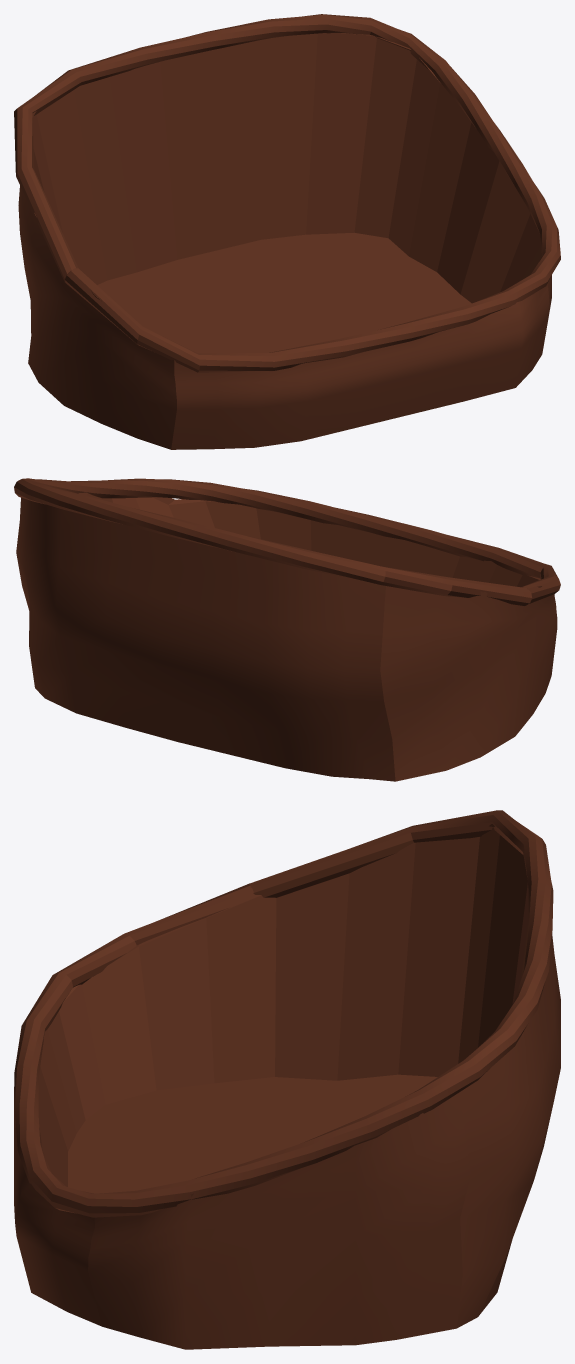
File: Basket_test.fbx
3 views of the same model, one above another, from view 1: azimuth 30°, elevation 25°; view 2: azimuth 150°, elevation 25°; view 3: azimuth 270°, elevation 25° (orthographic). The views are drawn at different scales.
Visible parts, largest first — view 1: pCube1, pCylinder1; view 2: pCube1, pCylinder1; view 3: pCube1, pCylinder1.
Part boxes in pixels (bbox=[...]): pCube1: bbox=[18, 33, 551, 449]; pCylinder1: bbox=[14, 14, 560, 372]; pCube1: bbox=[16, 492, 557, 781]; pCylinder1: bbox=[14, 478, 560, 605]; pCube1: bbox=[14, 823, 560, 1349]; pCylinder1: bbox=[14, 810, 553, 1217].
Size of the model in its own units: 60.04 by 29.61 by 48.24.
